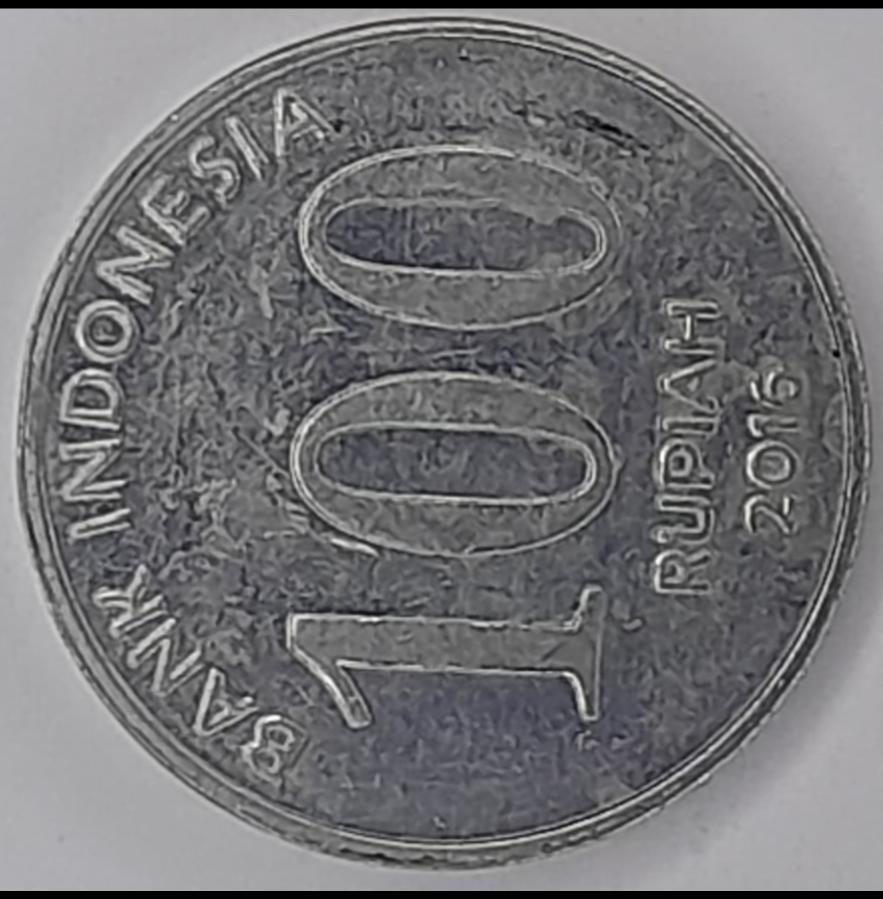coin_100_e2016: (10, 12, 877, 871)
